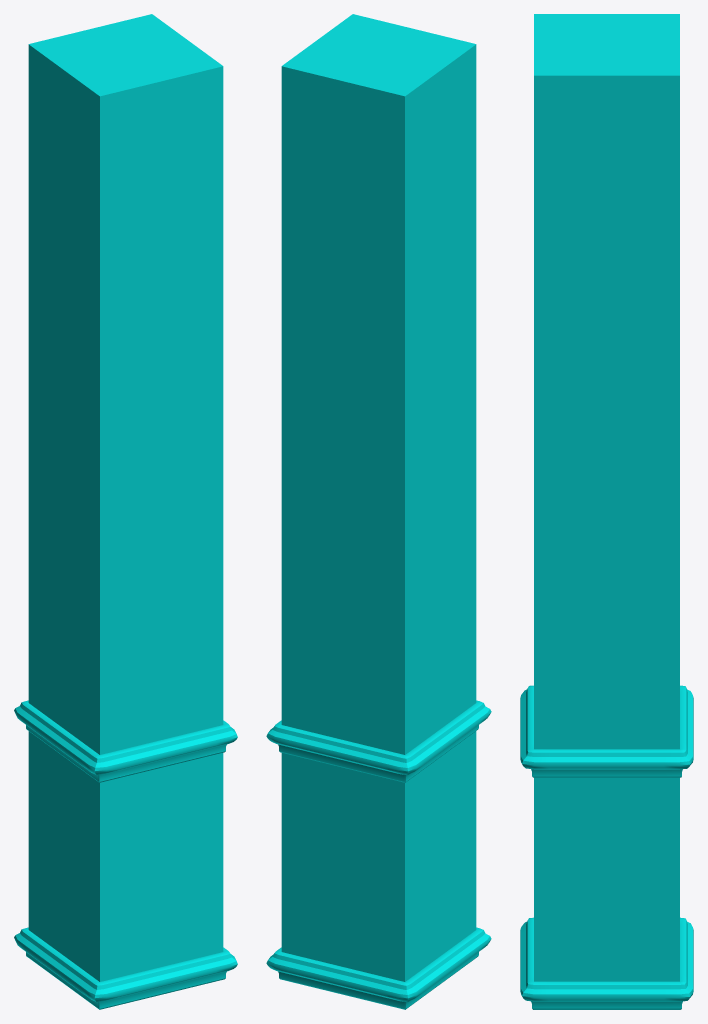
Rendered from ColumnNEW.fbx.
3 views of the same model, side by side, from view 1: azimuth 30°, elevation 25°; view 2: azimuth 150°, elevation 25°; view 3: azimuth 270°, elevation 25° (orthographic). The views are drawn at different scales.
Visible parts, largest first — view 1: ModPillar; view 2: ModPillar; view 3: ModPillar.
Boxes of the visible parts, x1,y1,x2,y2 form: ModPillar: [14, 14, 237, 1009]; ModPillar: [266, 14, 491, 1009]; ModPillar: [520, 14, 693, 1009].
Size of the model in its own units: 60.5 by 360 by 60.5.
